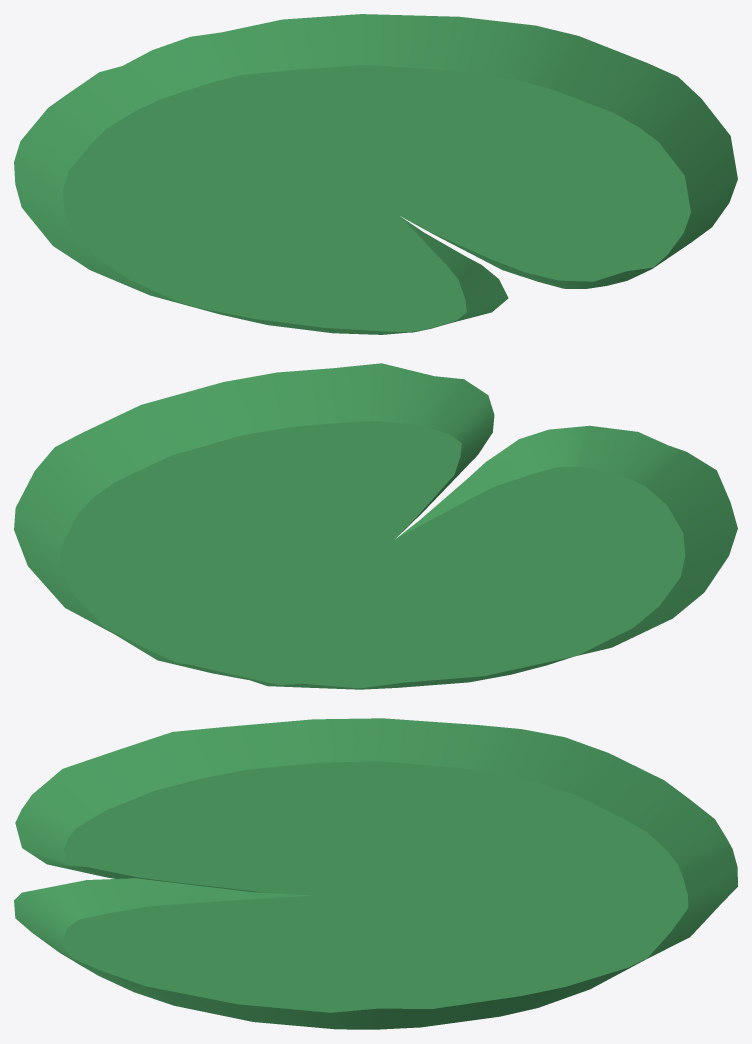
Rendered from plant_nymphaea_light_B.fbx.
The picture shows the model from 3 angles, top to bottom: view 1: azimuth 30°, elevation 25°; view 2: azimuth 150°, elevation 25°; view 3: azimuth 270°, elevation 25°; orthographic projection. The views are drawn at different scales.
Parts seen in each view (by area): view 1: plant_nymphaea_light_B; view 2: plant_nymphaea_light_B; view 3: plant_nymphaea_light_B.
Part boxes in pixels (x1=…): plant_nymphaea_light_B: x1=14, y1=14, x2=737, y2=334; plant_nymphaea_light_B: x1=14, y1=363, x2=737, y2=689; plant_nymphaea_light_B: x1=14, y1=718, x2=737, y2=1029.
Bounding box in the file's own units: 25.87 × 1.6 × 25.61.
